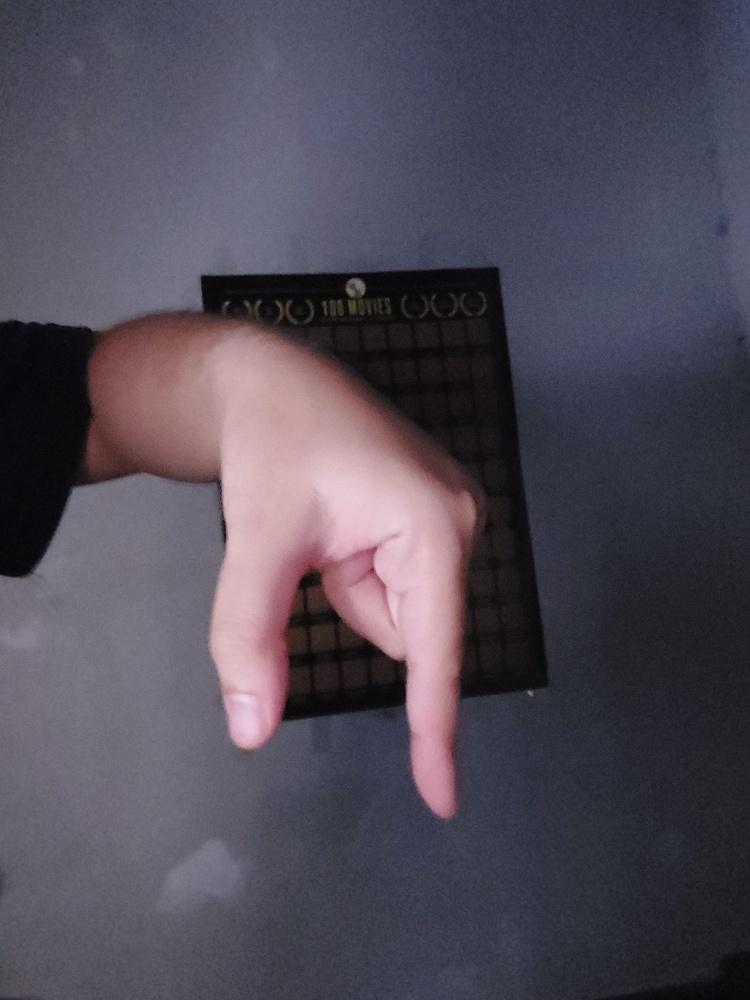q: (206, 329, 481, 826)
